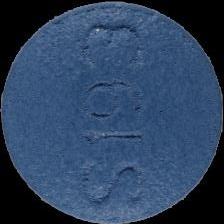68258-7049: (0, 0, 224, 224)
